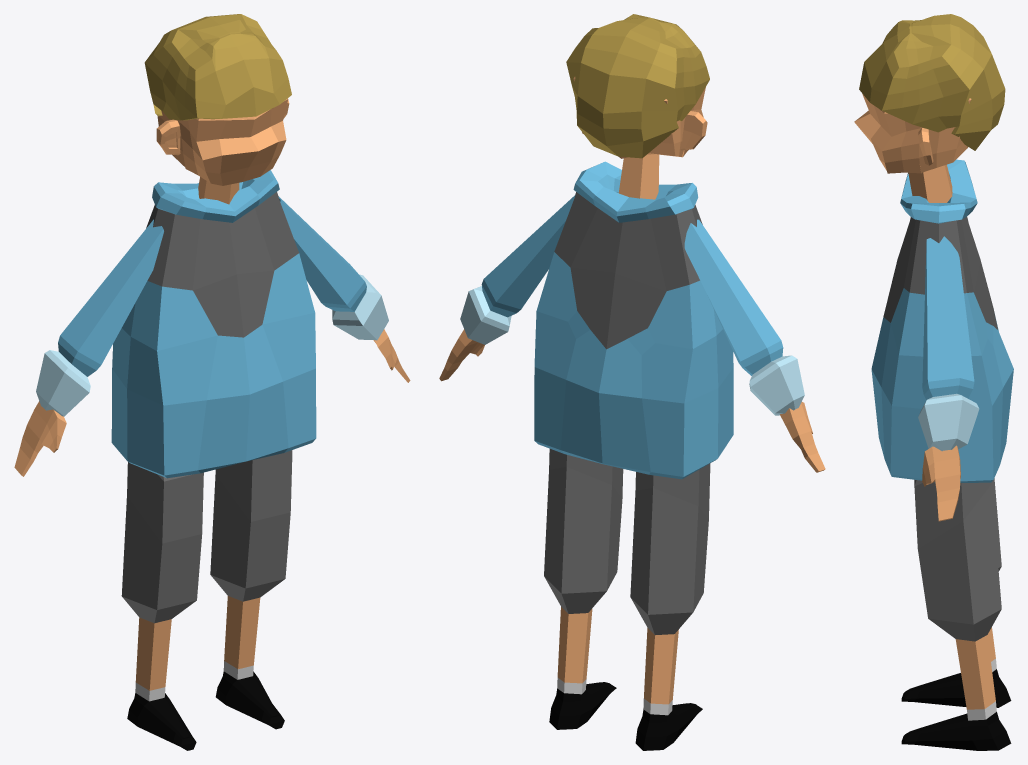
The model's file is Character_2.fbx.
The picture shows the model from 3 angles, left to right: view 1: azimuth 30°, elevation 25°; view 2: azimuth 150°, elevation 25°; view 3: azimuth 270°, elevation 25°; orthographic projection. The views are drawn at different scales.
Parts seen in each view (by area): view 1: Cube, Cylinder, Cube.005, Cube.002, Cube.001; view 2: Cube, Cylinder, Cube.005, Cube.002, Cube.001; view 3: Cube, Cylinder, Cube.005, Cube.002, Cube.001.
Boxes of the visible parts, bbox=[...] form: Cube: bbox=[36, 170, 388, 478]; Cylinder: bbox=[121, 450, 292, 750]; Cube.005: bbox=[144, 14, 291, 120]; Cube.002: bbox=[156, 98, 289, 204]; Cube.001: bbox=[14, 329, 410, 476]; Cube: bbox=[460, 161, 804, 479]; Cylinder: bbox=[544, 449, 710, 750]; Cube.005: bbox=[566, 14, 709, 158]; Cube.002: bbox=[573, 77, 707, 199]; Cube.001: bbox=[439, 329, 825, 472]; Cube: bbox=[871, 159, 1013, 482]; Cylinder: bbox=[901, 478, 1011, 750]; Cube.005: bbox=[859, 14, 1005, 150]; Cube.002: bbox=[854, 94, 971, 202]; Cube.001: bbox=[922, 445, 960, 521].
Bounding box in the file's own units: 330 × 572 × 119.
